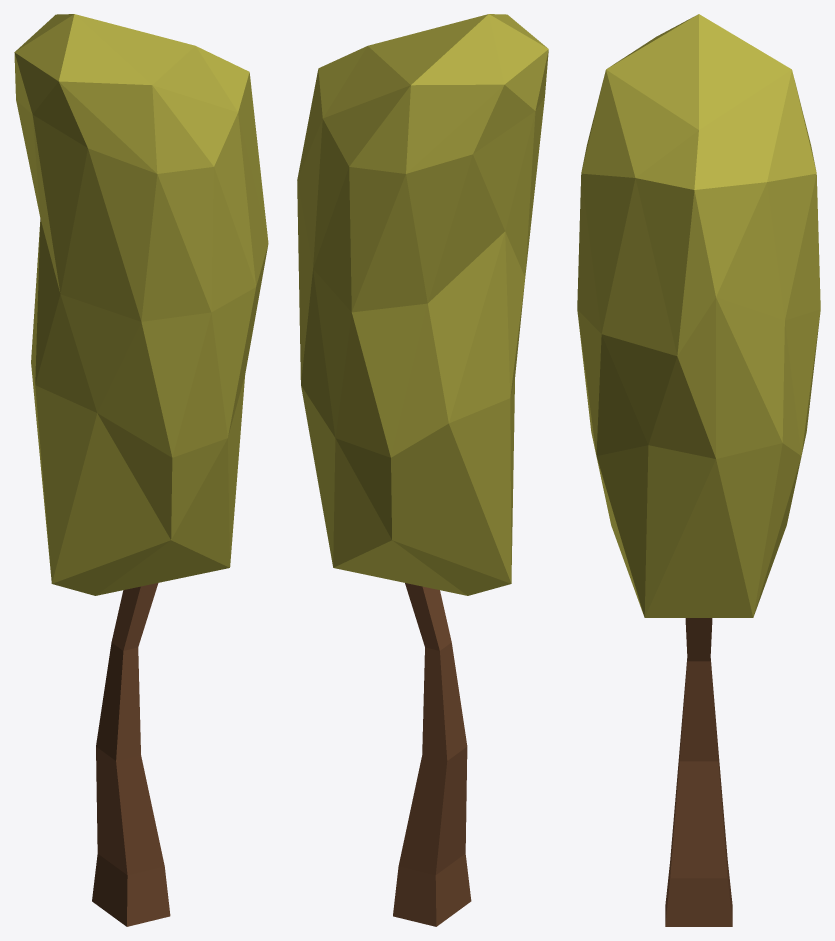
Rendered from Tree_38_Yellow.fbx.
The picture shows the model from 3 angles, left to right: view 1: azimuth 30°, elevation 25°; view 2: azimuth 150°, elevation 25°; view 3: azimuth 270°, elevation 25°; orthographic projection. The views are drawn at different scales.
Parts seen in each view (by area): view 1: Tree_38_Yellow_Part_1, Tree_38_Yellow_Part_2; view 2: Tree_38_Yellow_Part_1, Tree_38_Yellow_Part_2; view 3: Tree_38_Yellow_Part_1, Tree_38_Yellow_Part_2.
Boxes of the visible parts, bbox=[...] form: Tree_38_Yellow_Part_1: bbox=[14, 14, 268, 595]; Tree_38_Yellow_Part_2: bbox=[92, 583, 170, 926]; Tree_38_Yellow_Part_1: bbox=[297, 14, 548, 595]; Tree_38_Yellow_Part_2: bbox=[393, 583, 471, 926]; Tree_38_Yellow_Part_1: bbox=[577, 14, 820, 617]; Tree_38_Yellow_Part_2: bbox=[665, 618, 732, 926].
Bounding box in the file's own units: 209 × 800 × 201.
